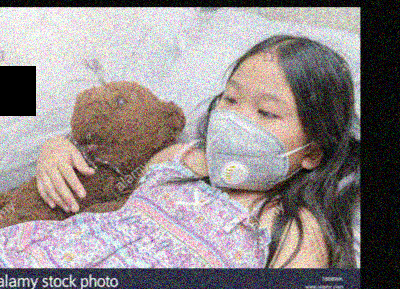with_mask: (204, 77, 308, 190)
